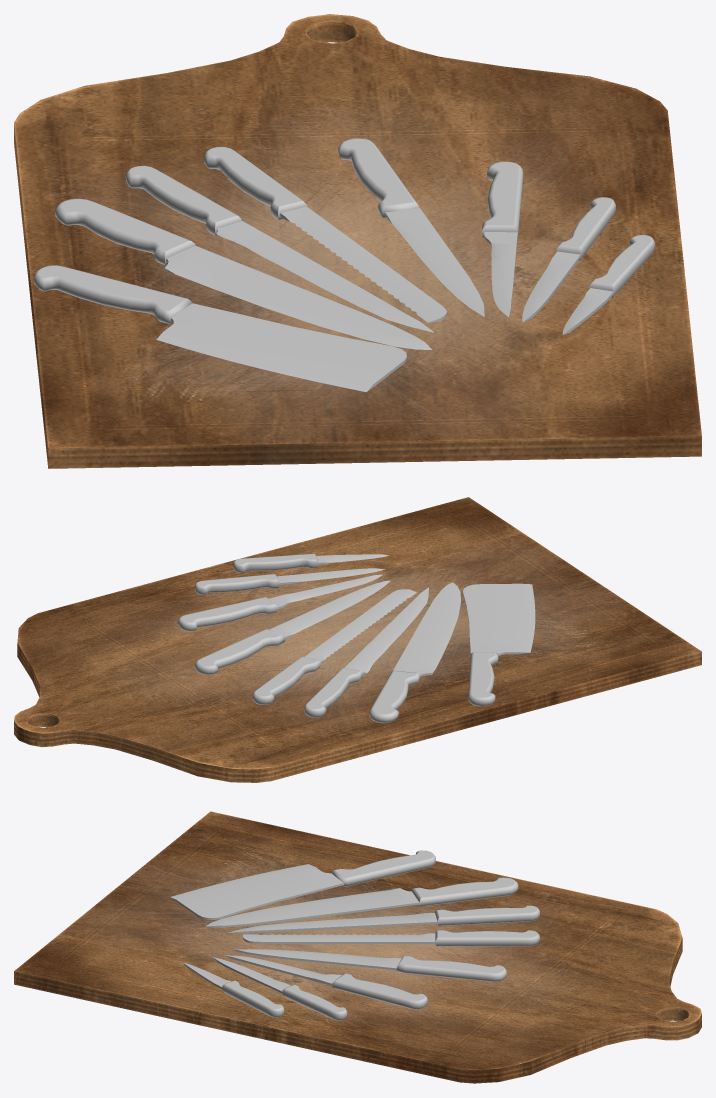
File: cozinha2.fbx
3 renders of one model, top to bottom at view 1: azimuth 30°, elevation 25°; view 2: azimuth 150°, elevation 25°; view 3: azimuth 270°, elevation 25°, orthographic. The views are drawn at different scales.
Parts seen in each view (by area): view 1: SM_CuttingBoard, SM_Knife_08, SM_Knife_07, SM_Knife_06, SM_Knife_05, SM_Knife_04, SM_Knife_03, SM_Knife_02, SM_Knife_01; view 2: SM_CuttingBoard, SM_Knife_08, SM_Knife_07, SM_Knife_04, SM_Knife_05, SM_Knife_06, SM_Knife_03, SM_Knife_02, SM_Knife_01; view 3: SM_CuttingBoard, SM_Knife_08, SM_Knife_07, SM_Knife_06, SM_Knife_05, SM_Knife_04, SM_Knife_03, SM_Knife_02, SM_Knife_01.
Boxes of the visible parts, left/top/right/bottom form: SM_CuttingBoard: left=14, top=14, right=701, bottom=468; SM_Knife_08: left=33, top=265, right=406, bottom=392; SM_Knife_07: left=55, top=198, right=431, bottom=349; SM_Knife_06: left=125, top=165, right=434, bottom=332; SM_Knife_05: left=204, top=147, right=447, bottom=322; SM_Knife_04: left=338, top=138, right=484, bottom=316; SM_Knife_03: left=482, top=161, right=523, bottom=317; SM_Knife_02: left=522, top=197, right=615, bottom=322; SM_Knife_01: left=562, top=235, right=654, bottom=334; SM_CuttingBoard: left=14, top=497, right=701, bottom=782; SM_Knife_08: left=463, top=583, right=535, bottom=706; SM_Knife_07: left=369, top=582, right=460, bottom=723; SM_Knife_04: left=195, top=580, right=390, bottom=674; SM_Knife_05: left=253, top=589, right=416, bottom=704; SM_Knife_06: left=304, top=587, right=428, bottom=717; SM_Knife_03: left=178, top=574, right=382, bottom=631; SM_Knife_02: left=195, top=568, right=385, bottom=594; SM_Knife_01: left=233, top=553, right=388, bottom=572; SM_CuttingBoard: left=14, top=811, right=701, bottom=1083; SM_Knife_08: left=170, top=850, right=435, bottom=919; SM_Knife_07: left=205, top=877, right=518, bottom=927; SM_Knife_06: left=228, top=905, right=539, bottom=933; SM_Knife_05: left=243, top=930, right=539, bottom=946; SM_Knife_04: left=232, top=949, right=506, bottom=981; SM_Knife_03: left=224, top=955, right=427, bottom=1009; SM_Knife_02: left=212, top=957, right=347, bottom=1020; SM_Knife_01: left=183, top=962, right=284, bottom=1017.
Bounding box in the file's own units: 80.34 × 3.35 × 90.23.
